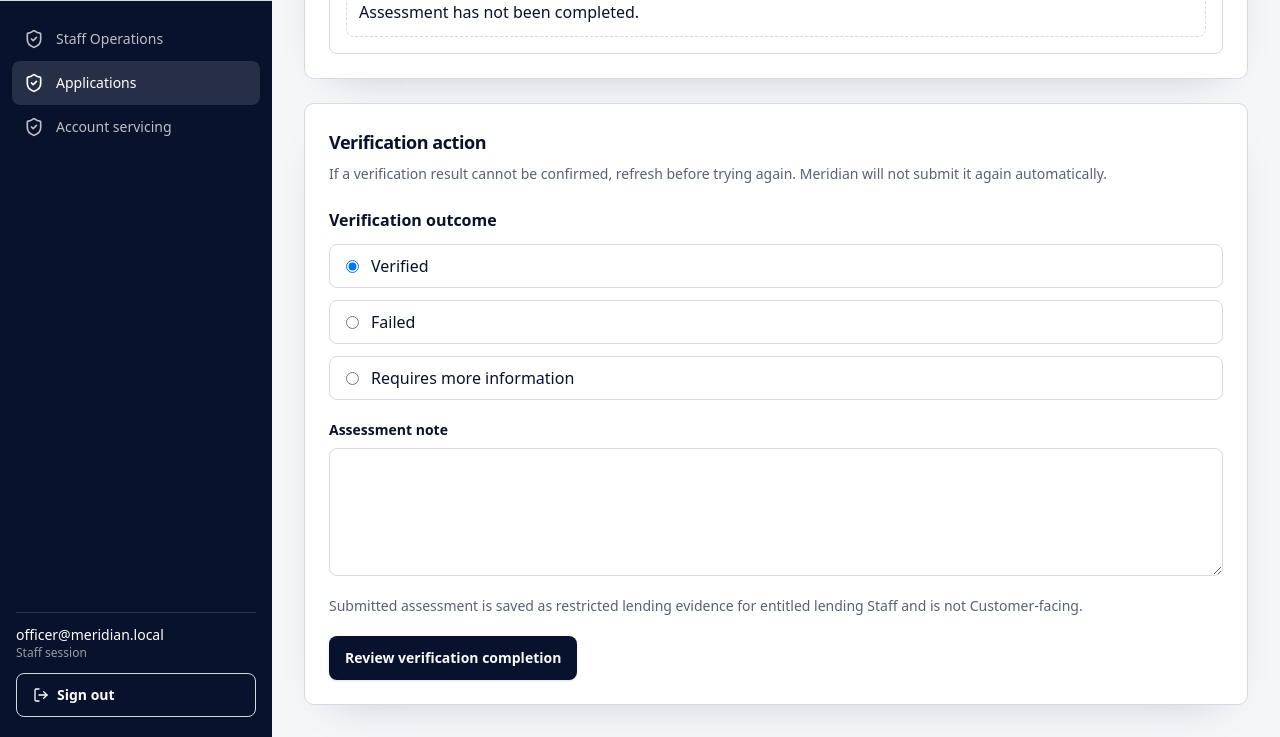
Staff verification workspace › reconciles an unknown completion result with GET and never retries the POST
(page scrolled)
Type "Evidence is complete." into the text box labelled "Assessment note" at x=776, y=512, box [329, 448, 1223, 576]
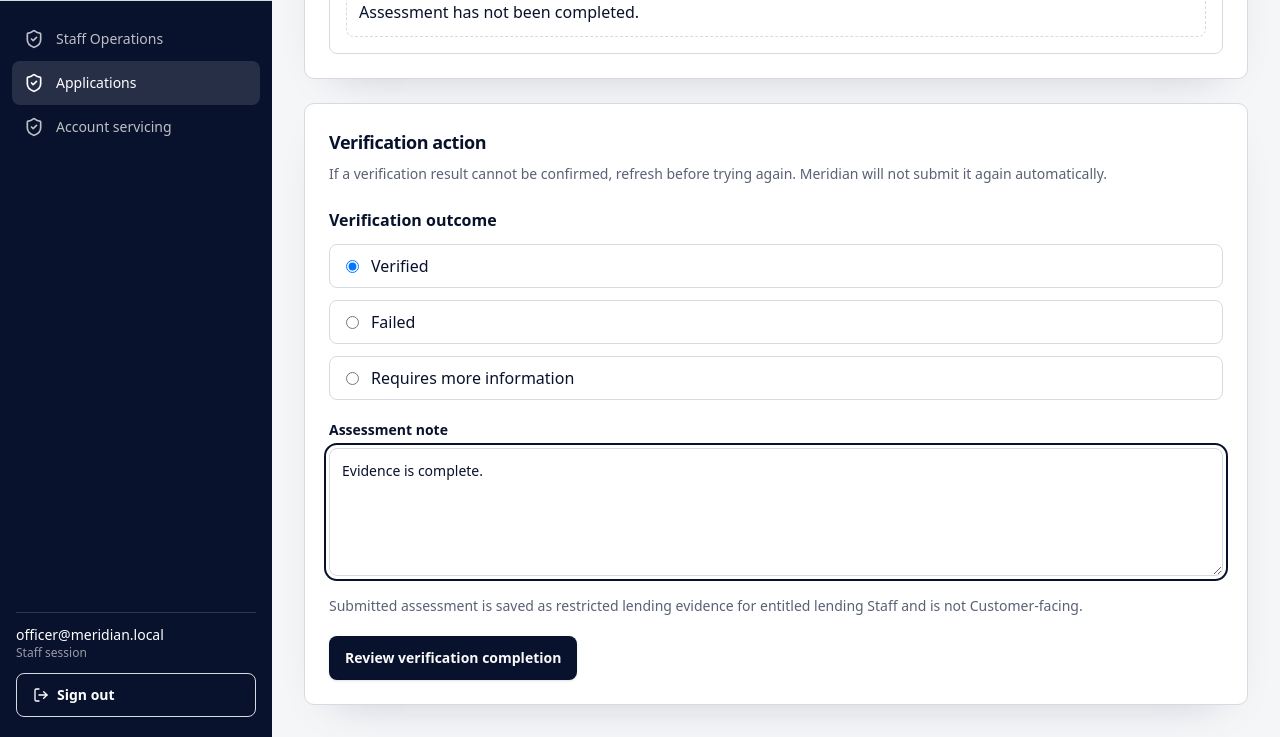
Click the button "Review verification completion" at x=453, y=658, box [329, 636, 577, 680]
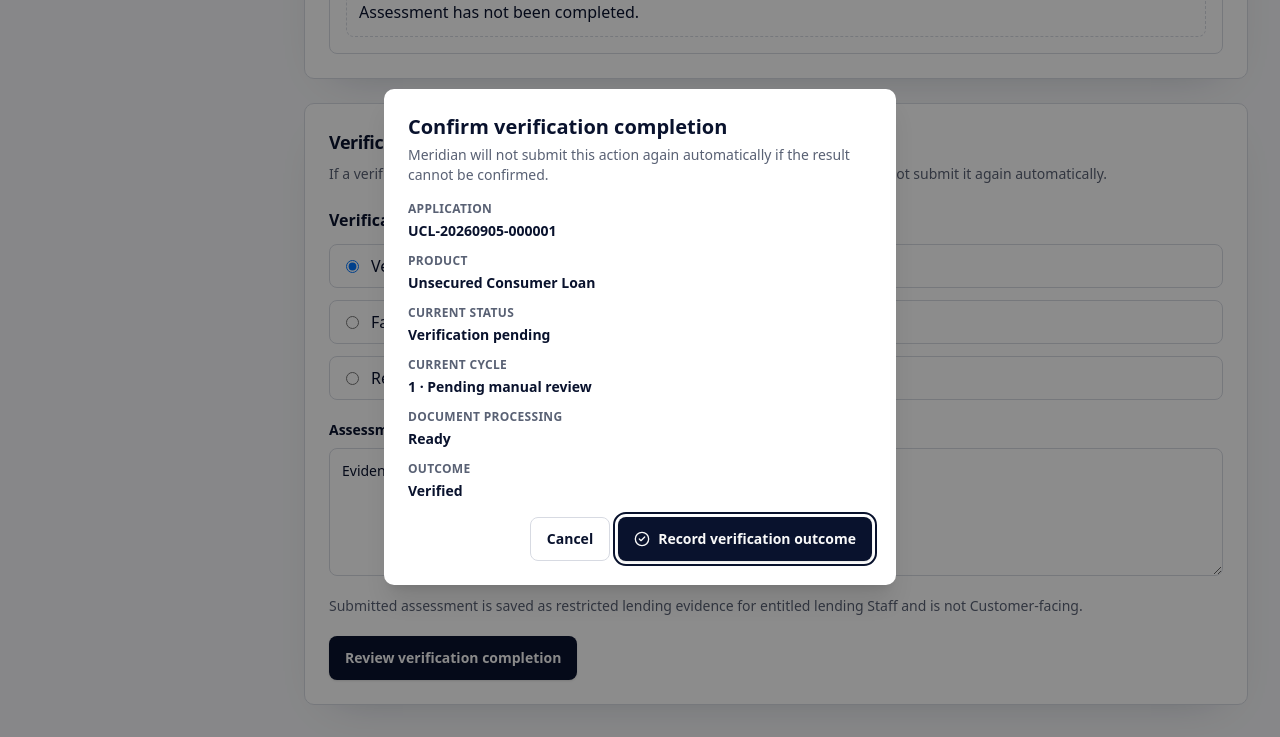
Click the button "Record verification outcome" at x=745, y=539, box [618, 517, 872, 561]
(page scrolled)
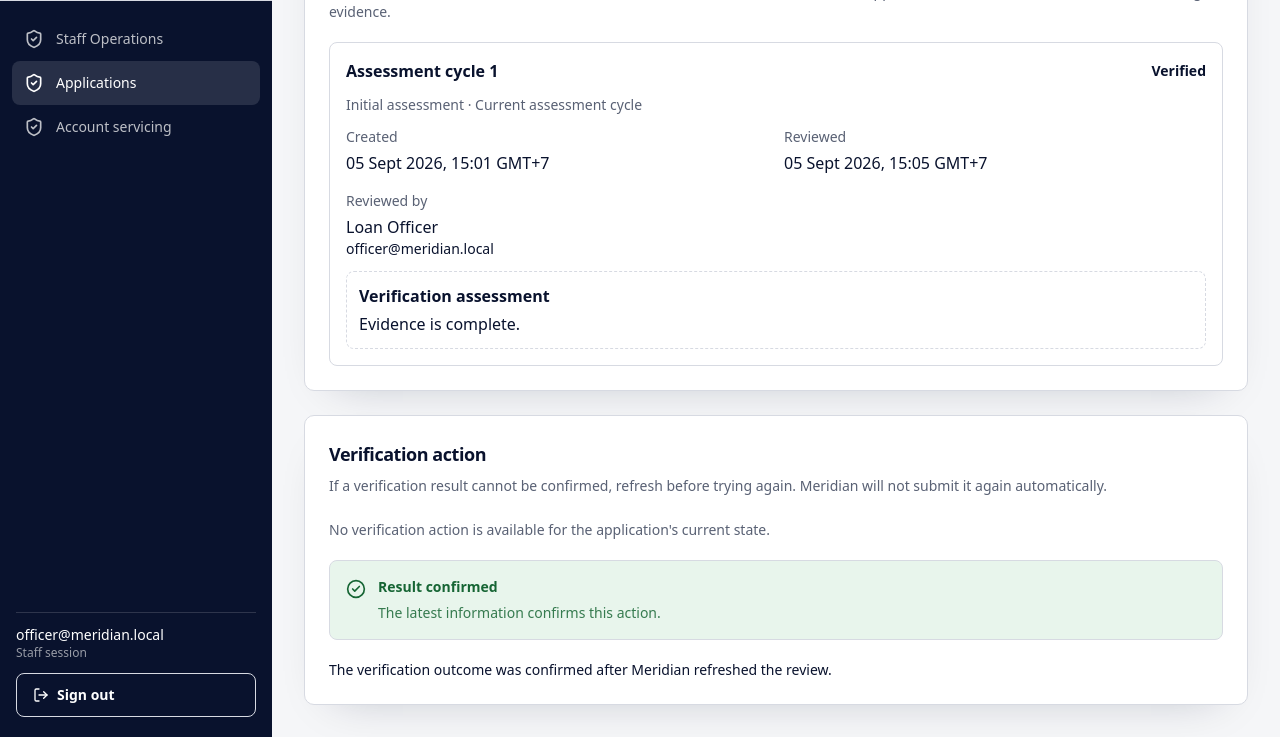
Now the text "verification outcome was confirmed after Meridian refreshed the review" is shown, box [329, 660, 832, 679]
Now the text "Evidence is complete." is shown, box [359, 313, 520, 335]
Now the text "officer@meridian.local" below "Loan Officer" is shown, box [346, 239, 494, 258]
